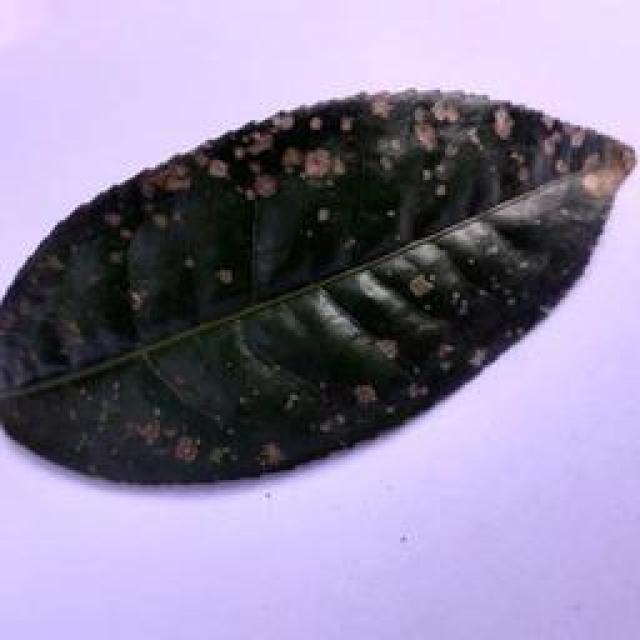Algal Leaf Spot: (1, 81, 638, 494)
